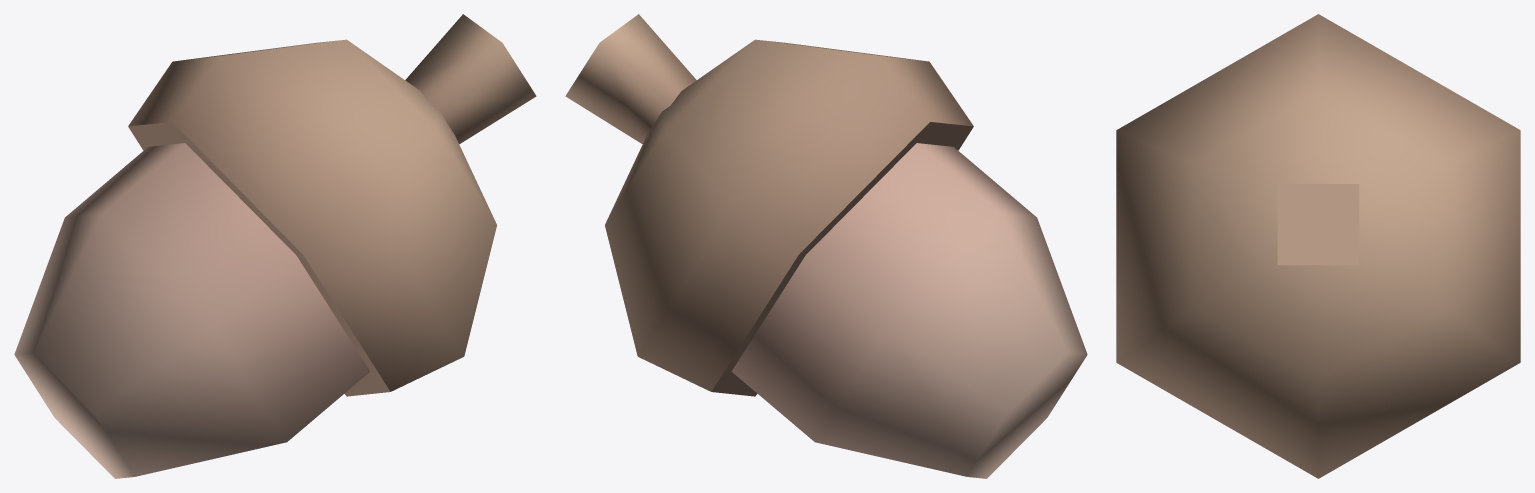
File: acorn.glb
3 renders of one model, left to right at view 1: azimuth 30°, elevation 25°; view 2: azimuth 150°, elevation 25°; view 3: azimuth 270°, elevation 25°, orthographic. The views are drawn at different scales.
Parts seen in each view (by area): view 1: acorn; view 2: acorn; view 3: acorn.
Part boxes in pixels (left/top/right/bottom): acorn: left=14, top=14, right=536, bottom=478; acorn: left=565, top=14, right=1087, bottom=478; acorn: left=1116, top=14, right=1520, bottom=478.
Size of the model in its own units: 0.1872 by 0.1471 by 0.1308.
